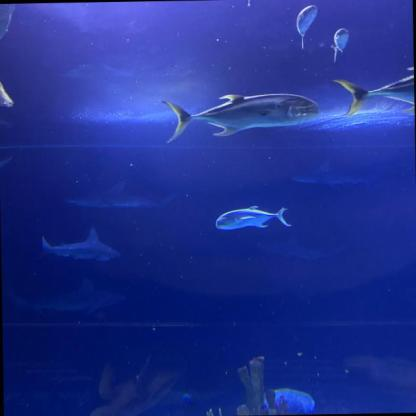fish: (161, 92, 318, 143), (330, 65, 414, 117), (215, 206, 291, 230), (296, 5, 317, 49), (331, 28, 349, 61)
shark: (6, 276, 125, 316), (67, 178, 173, 215), (38, 226, 119, 262), (294, 160, 378, 187), (256, 237, 345, 261)
